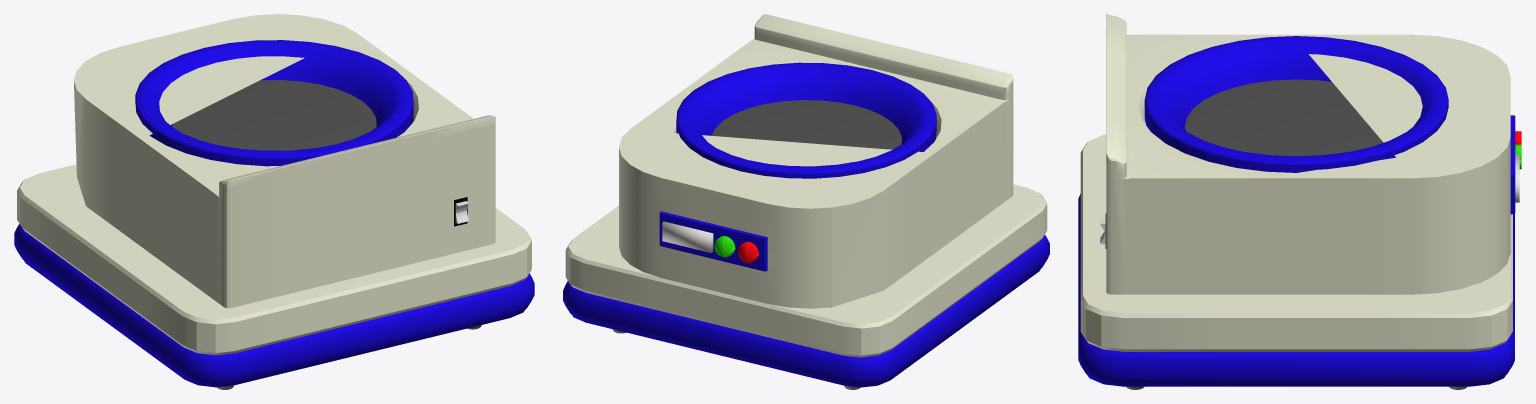
The model's file is DesbastadoraModelV4.fbx.
3 renders of one model, left to right at view 1: azimuth 30°, elevation 25°; view 2: azimuth 150°, elevation 25°; view 3: azimuth 270°, elevation 25°, orthographic. The views are drawn at different scales.
Parts seen in each view (by area): view 1: Body, Base, CubreLija, Rotor; view 2: Body, Base, CubreLija, Rotor, Caratula, Display; view 3: Body, CubreLija, Base, Rotor, Caratula.
Part boxes in pixels (<box>): Body: <box>17,14,531,355</box>; Base: <box>14,224,534,387</box>; CubreLija: <box>135,40,413,166</box>; Rotor: <box>172,80,376,150</box>; Body: <box>565,14,1047,357</box>; Base: <box>563,235,1049,387</box>; CubreLija: <box>676,62,936,178</box>; Rotor: <box>711,100,901,149</box>; Caratula: <box>659,211,767,271</box>; Display: <box>662,221,713,252</box>; Body: <box>1080,14,1512,351</box>; CubreLija: <box>1144,36,1448,172</box>; Base: <box>1078,194,1514,386</box>; Rotor: <box>1185,79,1383,156</box>; Caratula: <box>1510,115,1515,214</box>.
Bounding box in the file's own units: 10.22 × 6.1 × 10.37.
